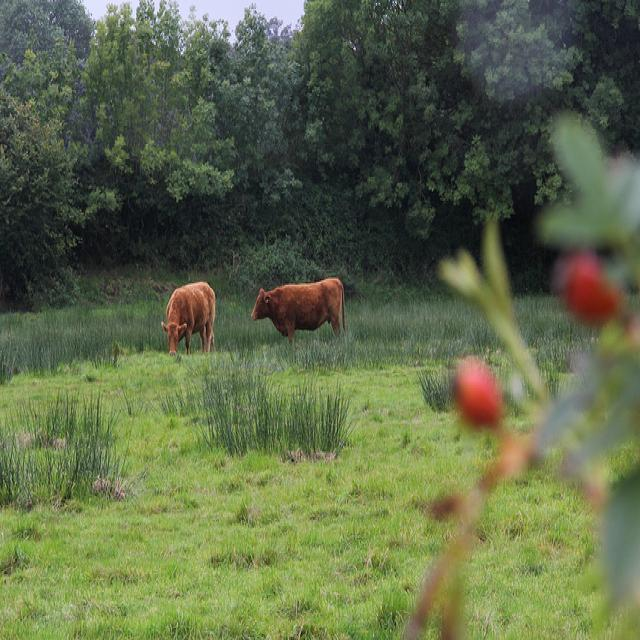cow: (250, 275, 345, 347), (161, 280, 214, 354)
